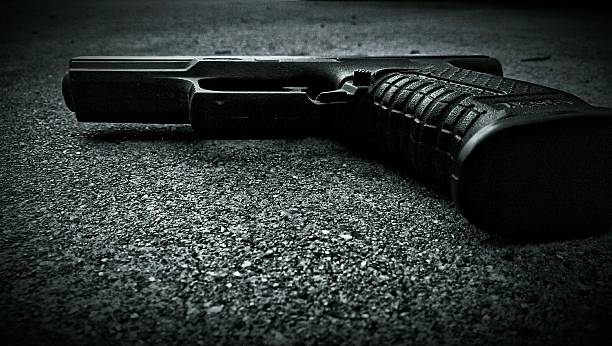pistol: (61, 48, 612, 246)
